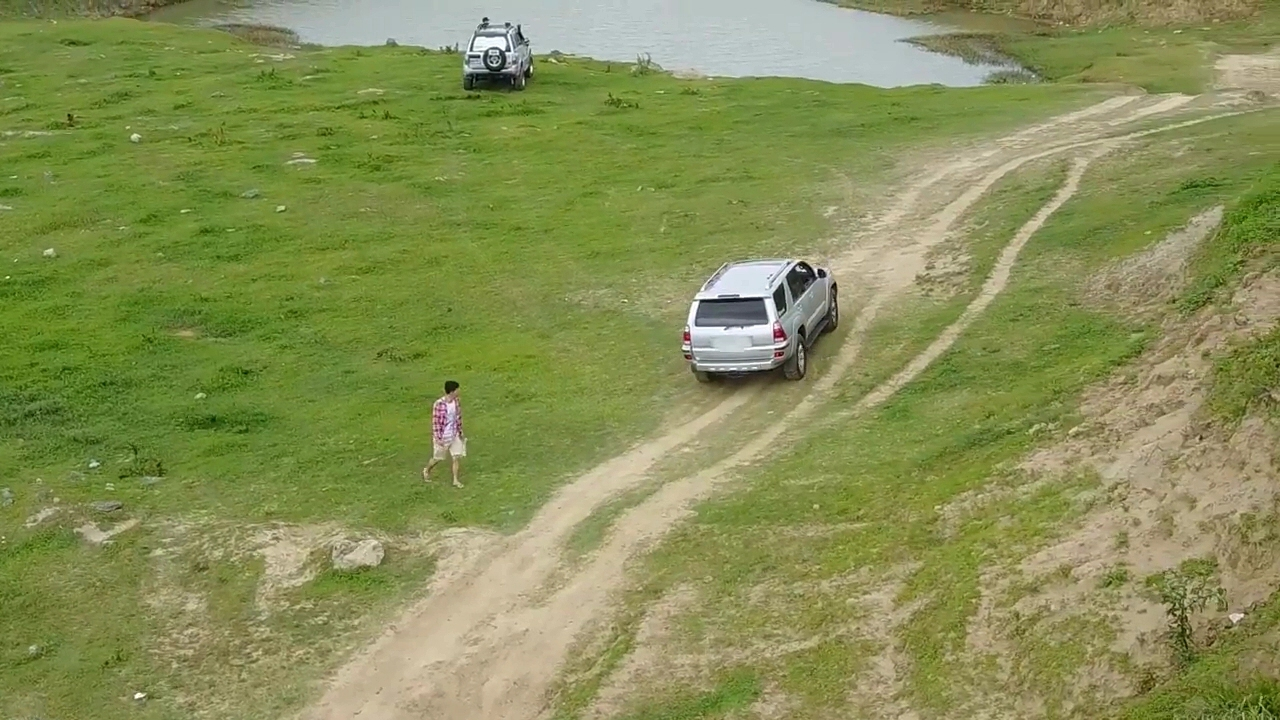araba: (682, 258, 841, 384), (462, 19, 539, 93)
insan: (420, 377, 468, 492)
